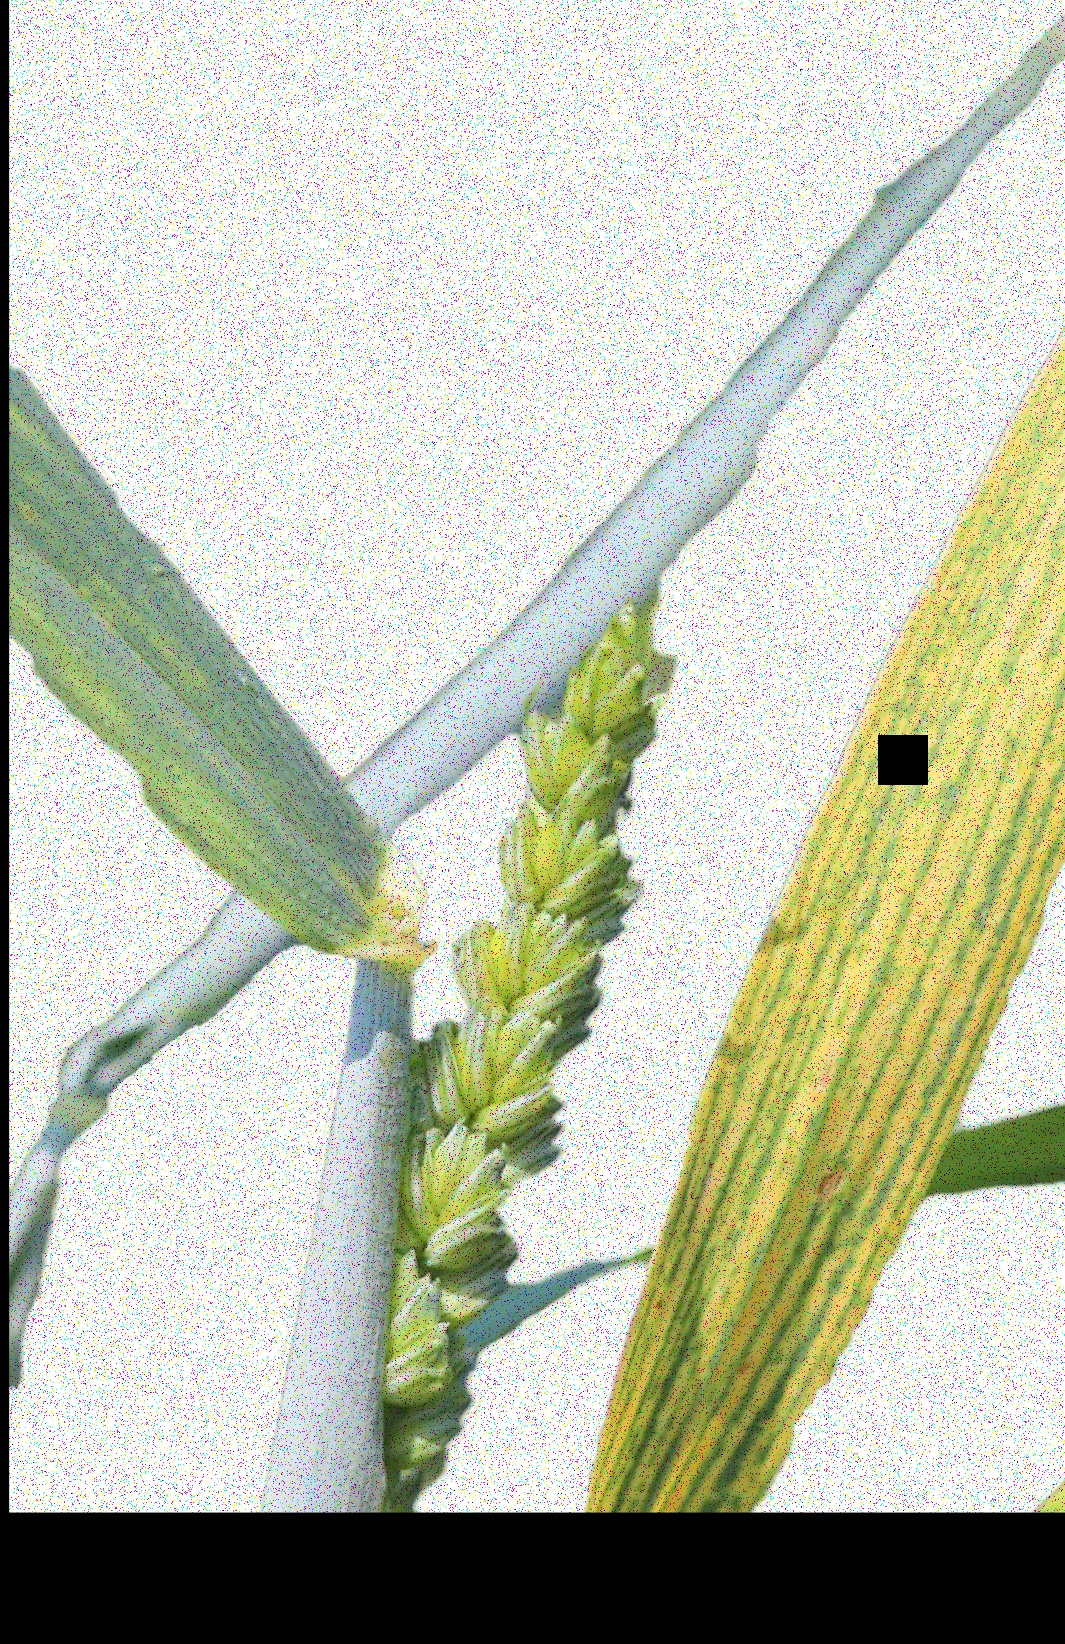wheat: (347, 545, 696, 1507)
